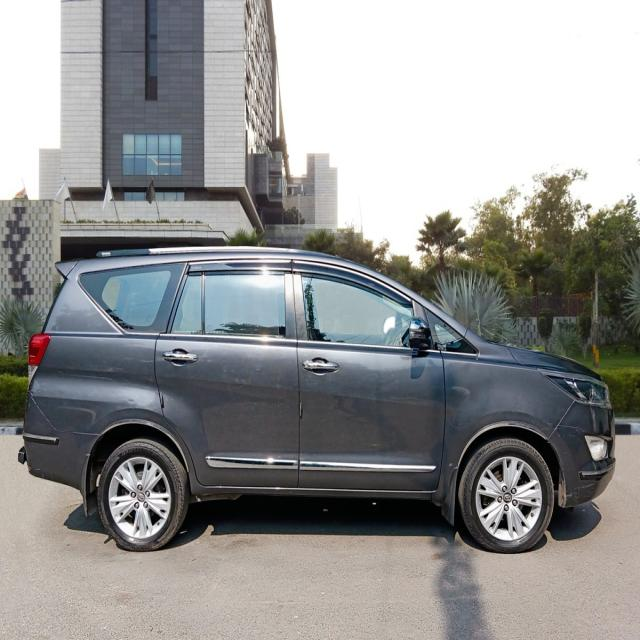light_vehicle: (18, 245, 617, 556)
